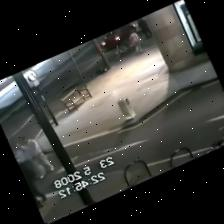person: (21, 137, 53, 177), (18, 162, 45, 208), (129, 29, 142, 52), (137, 19, 151, 38)
